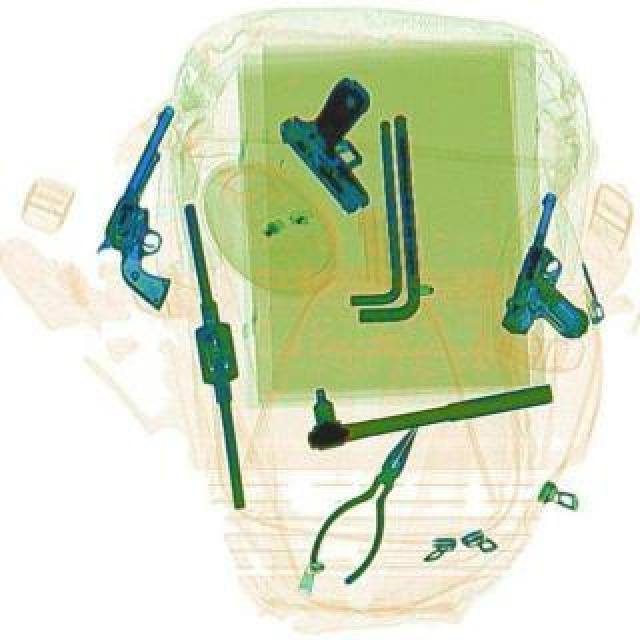gun: (74, 100, 248, 310), (268, 70, 428, 216), (494, 188, 628, 354)
wrench: (296, 408, 448, 592)
